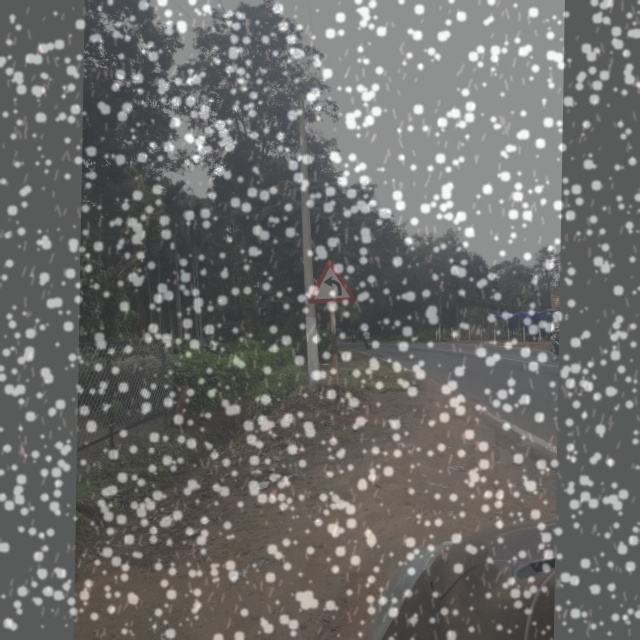Left_Hand_Curve: (309, 256, 353, 303)
